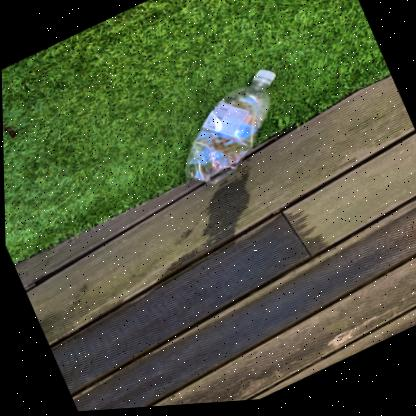Plastic: (183, 71, 274, 185)
